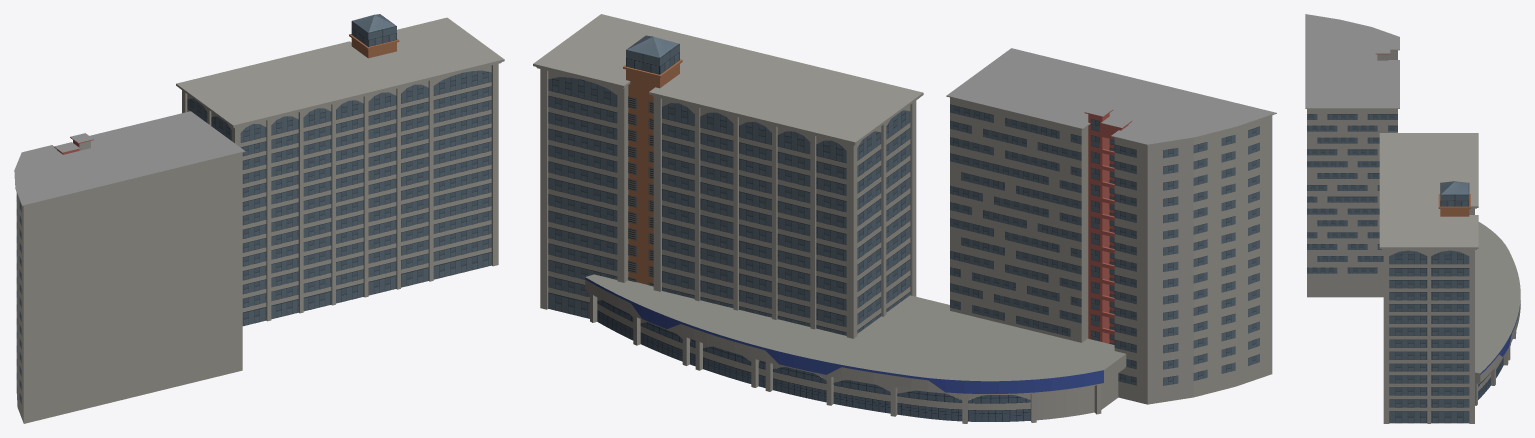
Rendered from Building_dyyh.FBX.
3 renders of one model, left to right at view 1: azimuth 30°, elevation 25°; view 2: azimuth 150°, elevation 25°; view 3: azimuth 270°, elevation 25°, orthographic. The views are drawn at different scales.
Parts seen in each view (by area): view 1: Building_dyyh_03, Building_dyyh_02, Building_dyyh_02_boli, Building_dyyh_03_boli; view 2: Building_dyyh_03, Building_dyyh_02, Building_dyyh_02_boli, Building_dyyh_01, Building_dyyh_03_boli, Building_dyyh_01_men, Building_dyyh_02_baiye; view 3: Building_dyyh_02, Building_dyyh_03, Building_dyyh_02_boli, Building_dyyh_01, Building_dyyh_03_boli, Building_dyyh_01_men.
Boxes of the visible parts, x1,y1,x2,y2 form: Building_dyyh_03: (14,111,245,423); Building_dyyh_02: (176,17,504,321); Building_dyyh_02_boli: (187,14,491,326); Building_dyyh_03_boli: (16,195,21,403); Building_dyyh_03: (946,48,1276,404); Building_dyyh_02: (533,14,923,338); Building_dyyh_02_boli: (548,35,910,335); Building_dyyh_01: (585,274,1126,423); Building_dyyh_03_boli: (950,104,1259,385); Building_dyyh_01_men: (597,300,1030,421); Building_dyyh_02_baiye: (628,96,653,286); Building_dyyh_02: (1379,133,1478,423); Building_dyyh_03: (1305,14,1399,297); Building_dyyh_02_boli: (1389,181,1469,423); Building_dyyh_01: (1475,222,1520,405); Building_dyyh_03_boli: (1307,114,1397,273); Building_dyyh_01_men: (1478,344,1510,399).
Bounding box in the file's own units: 138 × 60.36 × 56.74.
